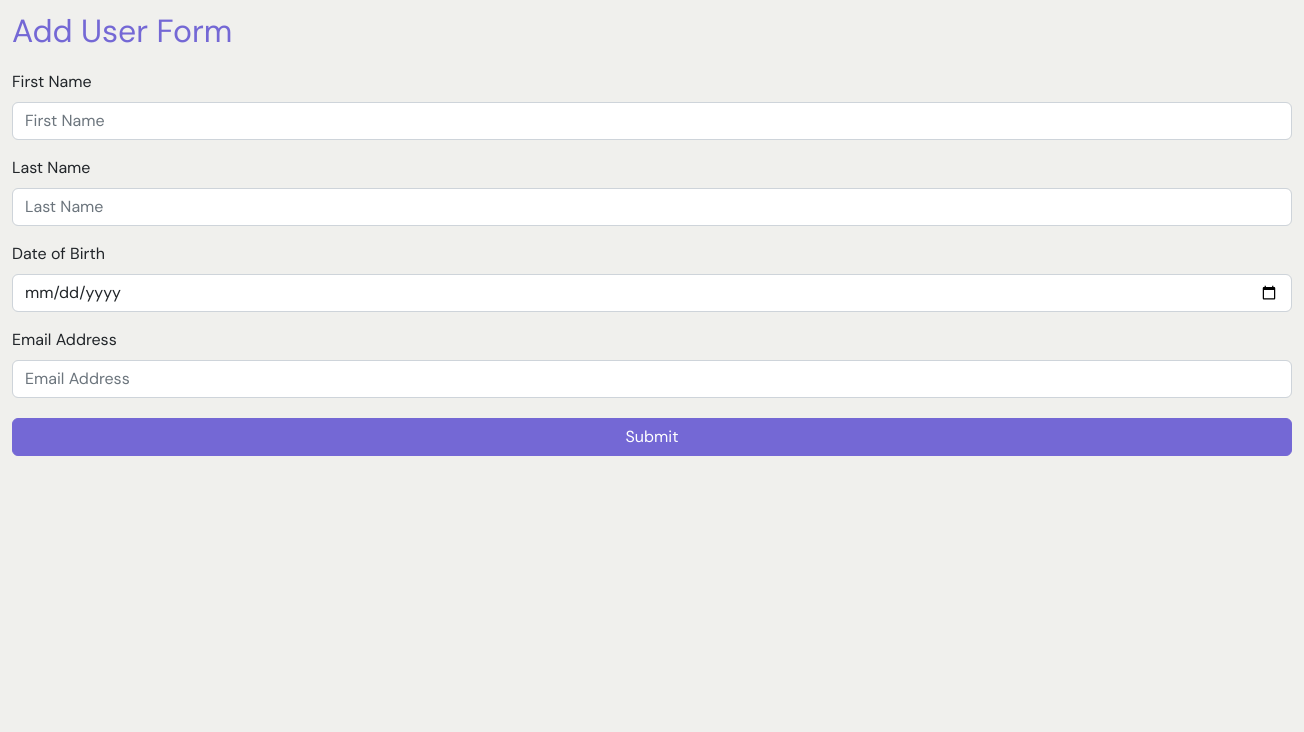
Test: UserForm › renders form and submits future date of birth. displays error
Note: Add invalid date and click submit
Type "2050-01-01" into the date field labelled "Date of Birth" at point(652, 293), box 12,274 -> 1292,312
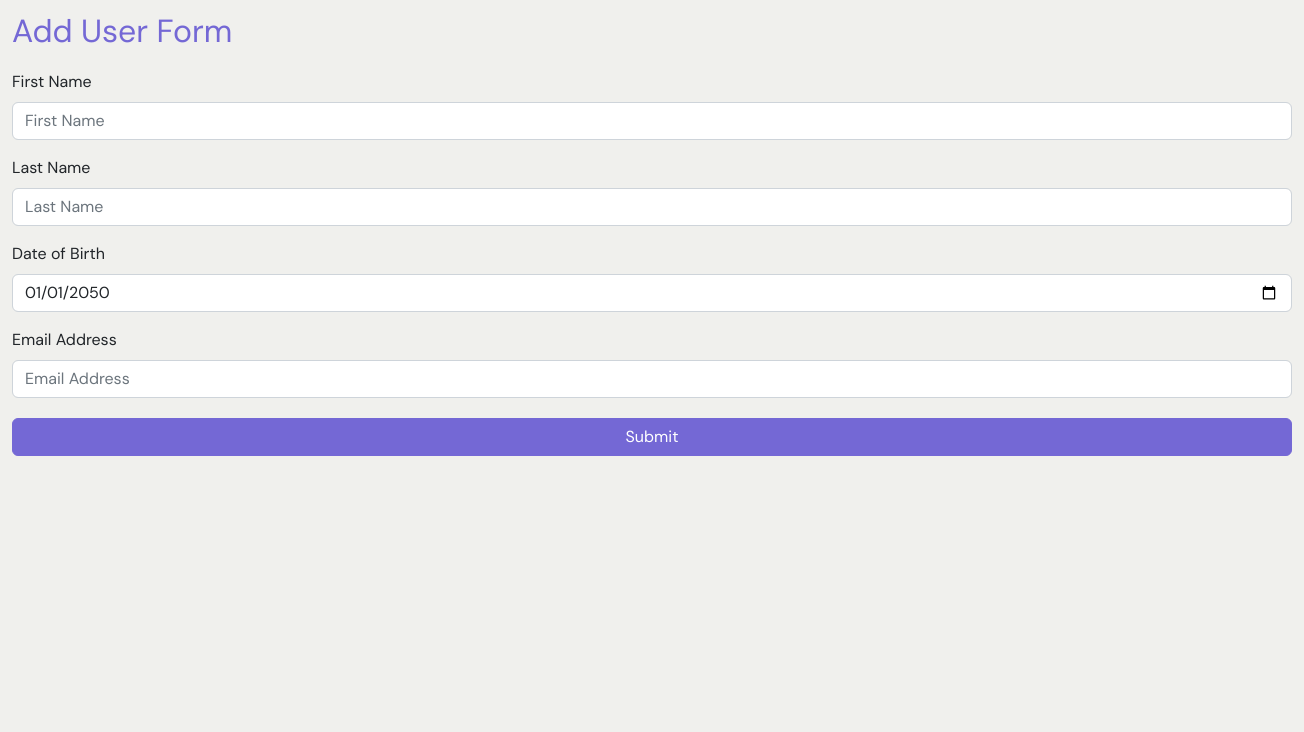
Click the button "Submit" at point(652, 437), box 12,418 -> 1292,456
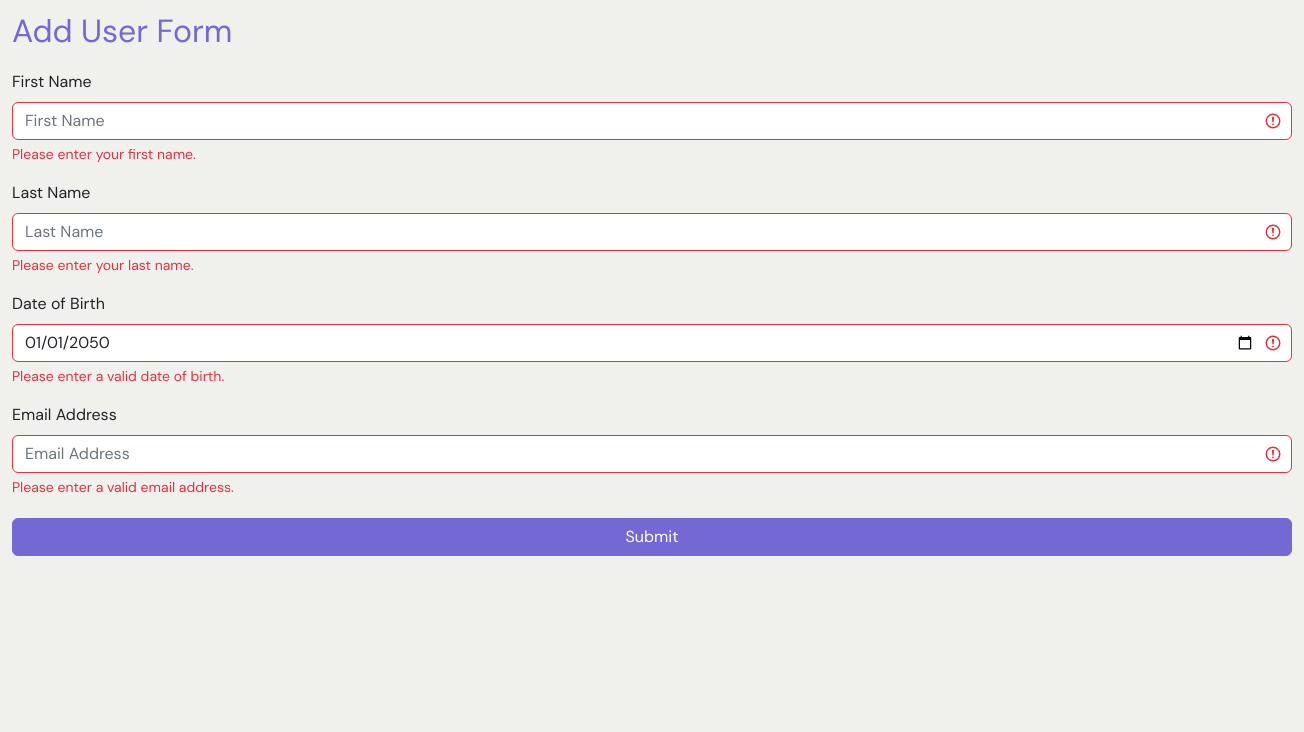
Result: the text "Please enter a valid date of birth." is shown at 12,367 -> 224,385
